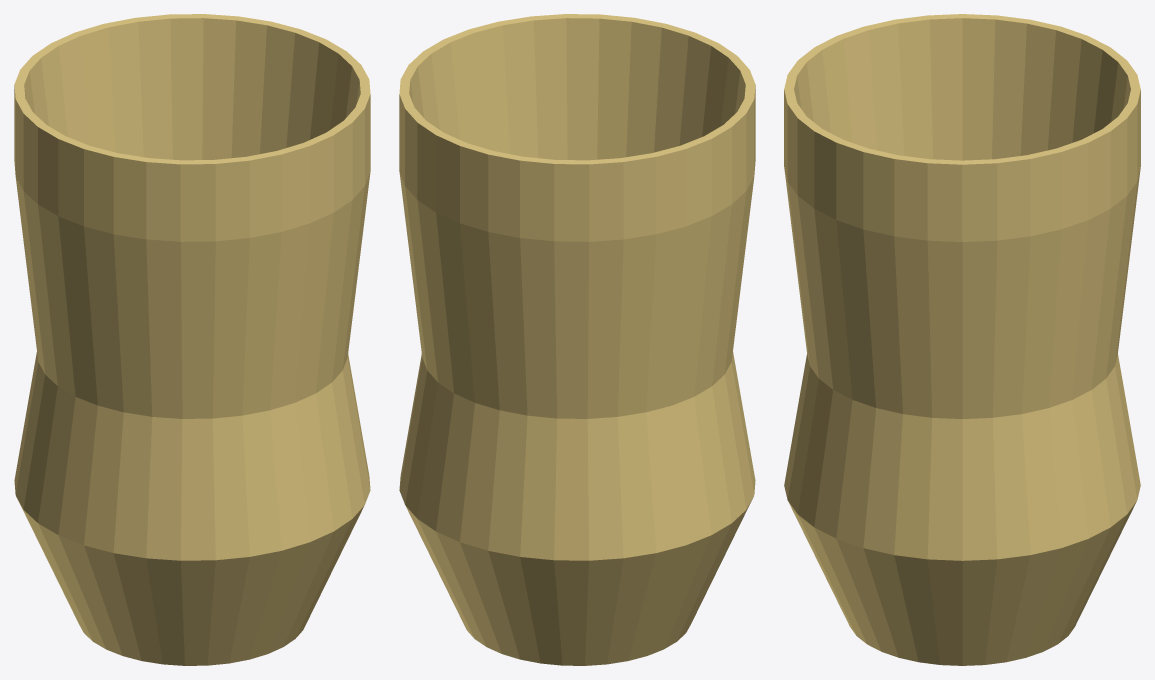
File: ArrowContainer.fbx
3 renders of one model, left to right at view 1: azimuth 30°, elevation 25°; view 2: azimuth 150°, elevation 25°; view 3: azimuth 270°, elevation 25°, orthographic.
Visible parts, largest first — view 1: Cylinder; view 2: Cylinder; view 3: Cylinder.
Part boxes in pixels (x1=…): Cylinder: x1=14, y1=14, x2=370, y2=665; Cylinder: x1=399, y1=14, x2=755, y2=665; Cylinder: x1=784, y1=14, x2=1140, y2=665.
Bounding box in the file's own units: 0.3881 × 0.3881 × 0.6342.
